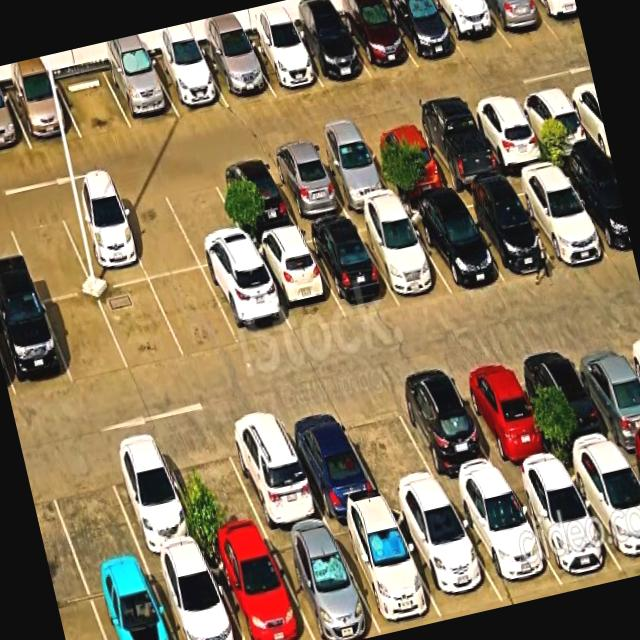empty: (159, 426, 267, 548), (41, 449, 143, 577), (333, 386, 444, 503), (160, 170, 251, 267), (112, 184, 200, 278), (5, 206, 92, 301), (149, 268, 239, 358), (97, 279, 185, 371), (43, 292, 128, 384), (55, 68, 131, 138)
occupied: (388, 370, 504, 494), (328, 508, 442, 634), (448, 480, 562, 601), (506, 467, 622, 585), (219, 407, 326, 534), (389, 497, 503, 616), (449, 357, 560, 478), (266, 524, 381, 640), (100, 437, 204, 561), (276, 400, 383, 519), (516, 342, 620, 463), (205, 537, 313, 640), (506, 167, 609, 267), (453, 185, 554, 281), (403, 198, 504, 294), (250, 231, 345, 333), (564, 450, 640, 577), (302, 219, 398, 317), (352, 209, 452, 302), (565, 332, 640, 449), (57, 194, 148, 290), (146, 550, 243, 640), (557, 156, 634, 258), (203, 257, 292, 344), (412, 110, 502, 190), (211, 158, 298, 240), (0, 299, 72, 398), (84, 563, 175, 640), (263, 147, 348, 225), (310, 136, 396, 212), (362, 123, 449, 197), (466, 97, 550, 172), (513, 86, 596, 159), (338, 3, 417, 78), (383, 0, 465, 68), (291, 17, 370, 87), (149, 50, 228, 118), (6, 78, 81, 149), (102, 59, 179, 128), (244, 31, 322, 96), (428, 0, 511, 60), (201, 41, 274, 106), (478, 0, 557, 47), (0, 90, 31, 156), (531, 0, 582, 36)
